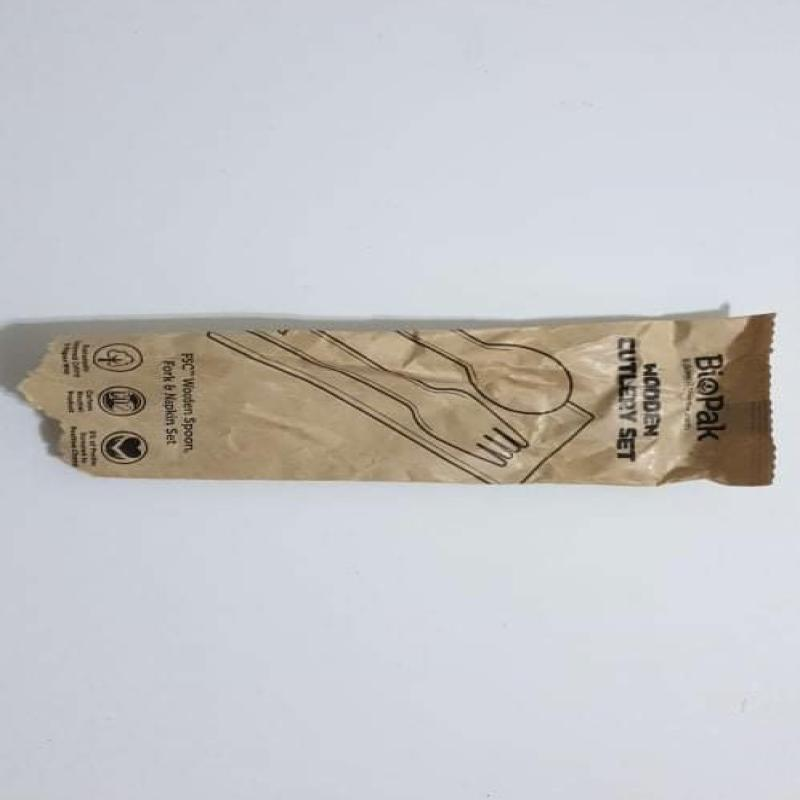paper: (16, 311, 776, 488)
